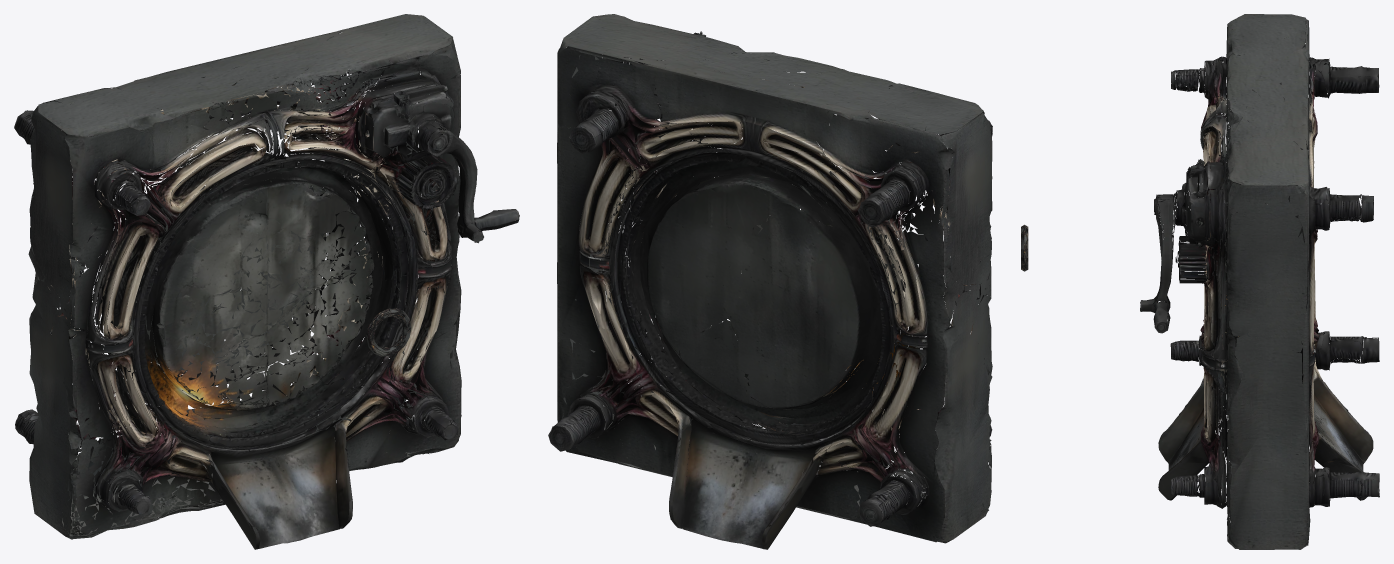
Rendered from traversal_wall_coring_chain.glb.
3 renders of one model, left to right at view 1: azimuth 30°, elevation 25°; view 2: azimuth 150°, elevation 25°; view 3: azimuth 270°, elevation 25°, orthographic. The views are drawn at different scales.
Visible parts, largest first — view 1: node_0, HB_ROTOR_00; view 2: node_0; view 3: node_0.
Part boxes in pixels (x1,y1,x2,y2): node_0: (14, 14, 519, 549); HB_ROTOR_00: (366, 308, 411, 356); node_0: (548, 14, 992, 549); node_0: (1140, 14, 1379, 549).
Size of the model in its own units: 0.8504 by 0.8522 by 0.7191.
1 material, 1 textured.
